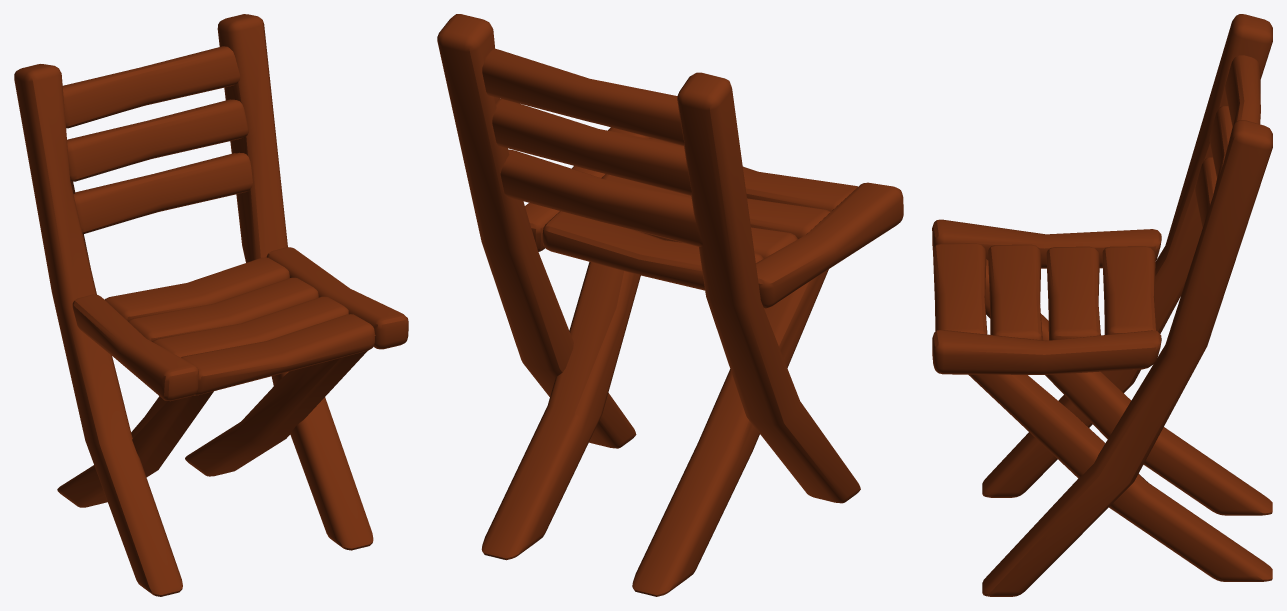
Rendered from sandalye.fbx.
3 views of the same model, side by side, from view 1: azimuth 30°, elevation 25°; view 2: azimuth 150°, elevation 25°; view 3: azimuth 270°, elevation 25° (orthographic). The views are drawn at different scales.
Parts seen in each view (by area): view 1: sandalye; view 2: sandalye; view 3: sandalye.
Part boxes in pixels (bbox=[...]): sandalye: bbox=[14, 14, 408, 596]; sandalye: bbox=[437, 14, 903, 596]; sandalye: bbox=[932, 14, 1272, 596].
Bounding box in the file's own units: 29.58 × 50.3 × 33.1.
